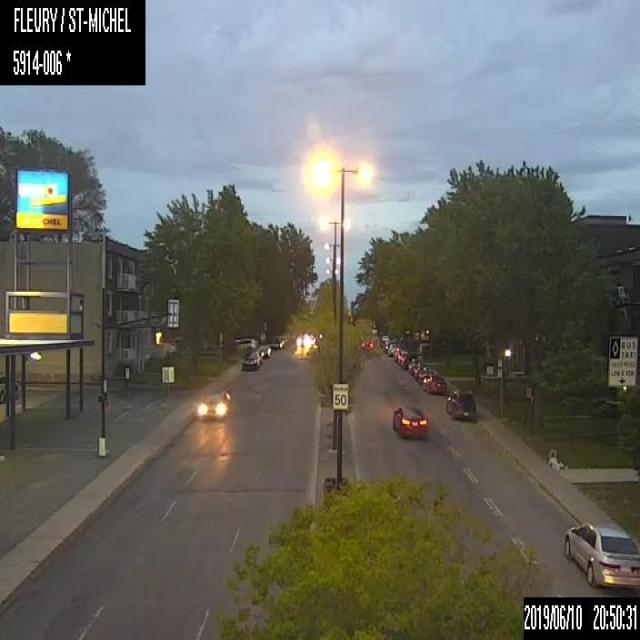vehicle: (564, 521, 639, 586), (195, 386, 232, 420), (392, 404, 428, 438), (444, 386, 476, 421), (240, 347, 262, 369), (424, 374, 446, 394), (396, 347, 416, 369), (417, 364, 434, 383), (413, 361, 428, 379), (407, 358, 421, 374), (256, 344, 271, 358), (294, 338, 310, 350), (392, 345, 403, 362), (386, 342, 398, 356)
